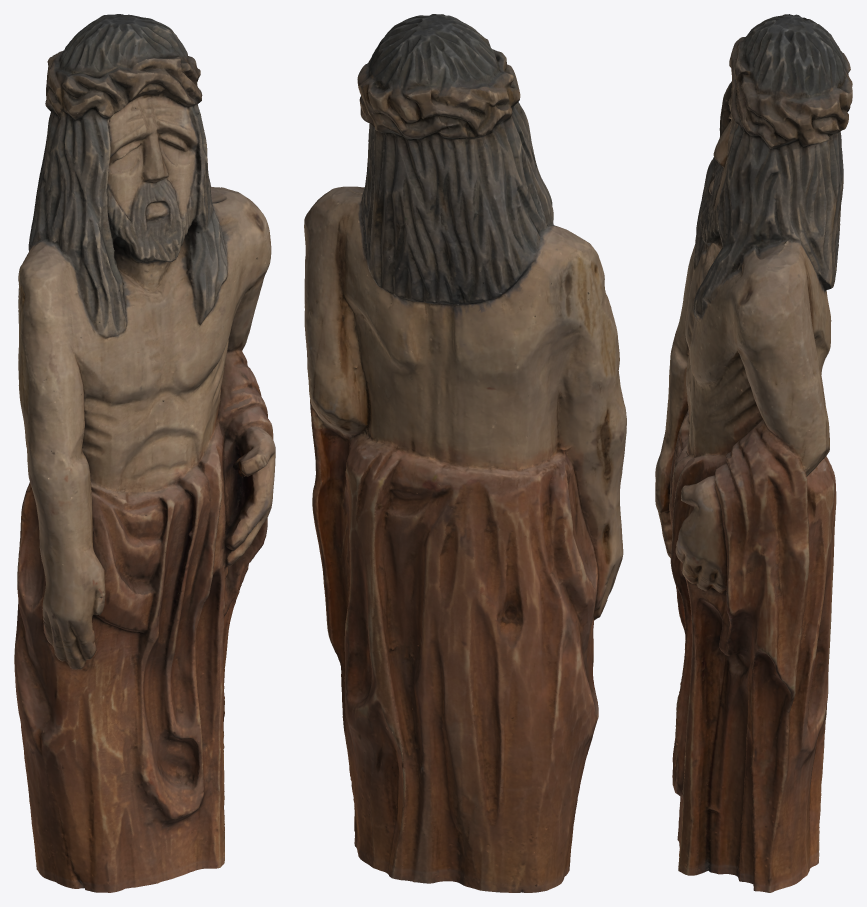
Rendered from MPLW_E_1189_lowpoly.glb.
3 views of the same model, side by side, from view 1: azimuth 30°, elevation 25°; view 2: azimuth 150°, elevation 25°; view 3: azimuth 270°, elevation 25° (orthographic). The views are drawn at different scales.
Parts seen in each view (by area): view 1: MPLW_E_1189_lowpoly; view 2: MPLW_E_1189_lowpoly; view 3: MPLW_E_1189_lowpoly.
Boxes of the visible parts, left/top/right/bottom form: MPLW_E_1189_lowpoly: left=14, top=14, right=275, bottom=892; MPLW_E_1189_lowpoly: left=304, top=14, right=626, bottom=892; MPLW_E_1189_lowpoly: left=655, top=14, right=852, bottom=892.
Bounding box in the file's own units: 0.1322 × 0.3843 × 0.0831.
1 material, 1 textured.
